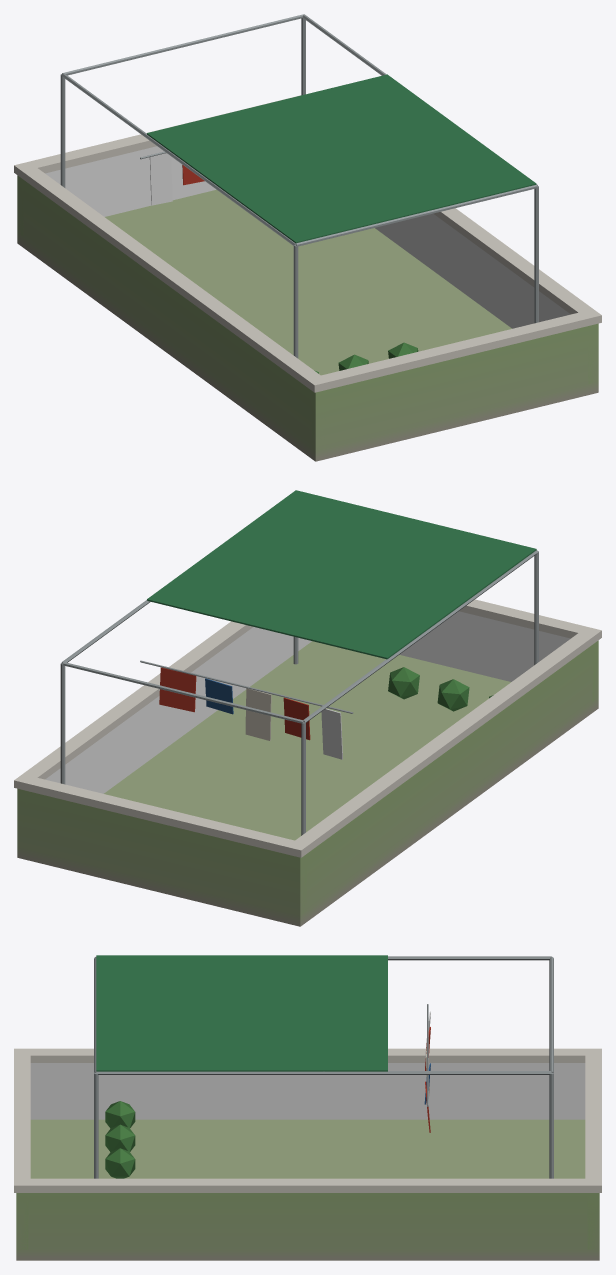
The model's file is mai_luoi_40.glb.
3 renders of one model, top to bottom at view 1: azimuth 30°, elevation 25°; view 2: azimuth 150°, elevation 25°; view 3: azimuth 270°, elevation 25°, orthographic. The views are drawn at different scales.
Visible parts, largest first — view 1: mai_luoi_40; view 2: mai_luoi_40; view 3: mai_luoi_40.
Part boxes in pixels (x1,y1,x2,y2): mai_luoi_40: [14, 14, 601, 461]; mai_luoi_40: [14, 490, 601, 926]; mai_luoi_40: [14, 955, 601, 1260].
Bounding box in the file's own units: 4.06 × 2.49 × 7.36.
